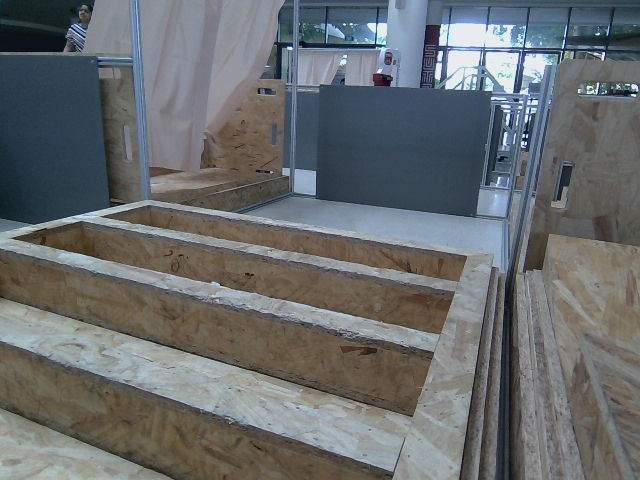curtain: (77, 0, 352, 158)
